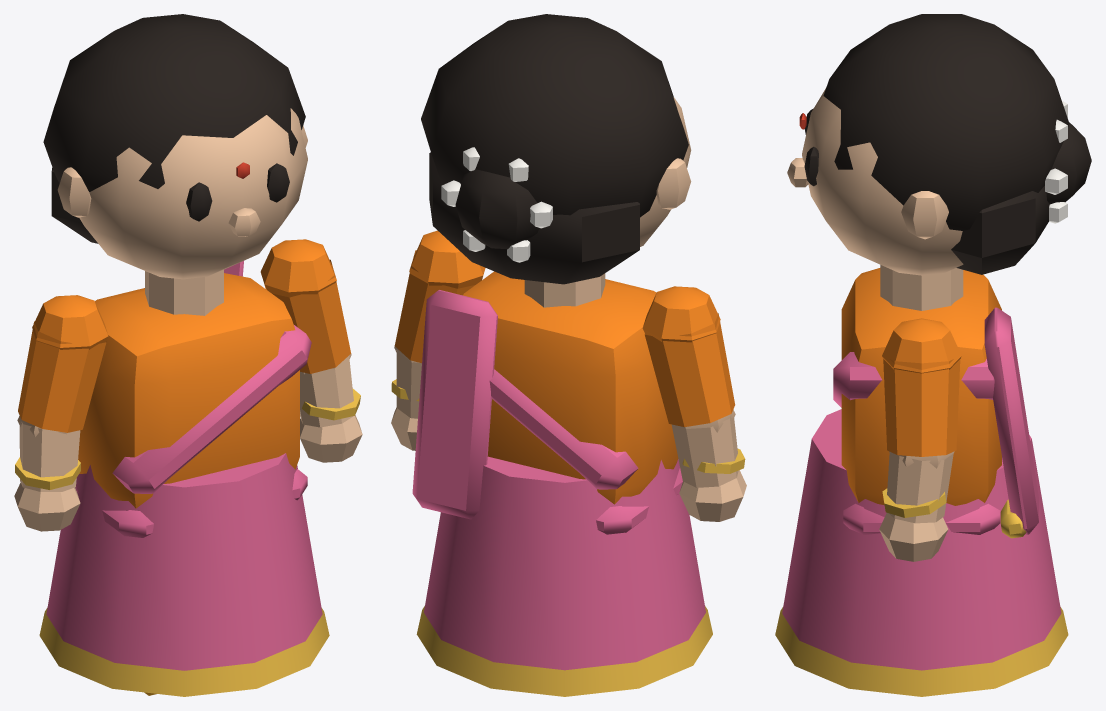
Rendered from trav_family_f.glb.
The picture shows the model from 3 angles, left to right: view 1: azimuth 30°, elevation 25°; view 2: azimuth 150°, elevation 25°; view 3: azimuth 270°, elevation 25°; orthographic projection. The views are drawn at different scales.
Visible parts, largest first — view 1: body, head, arm_r, arm_l; view 2: body, head, arm_r, arm_l; view 3: body, head, arm_l.
Boxes of the visible parts, bbox=[...] form: body: bbox=[39, 261, 329, 696]; head: bbox=[43, 14, 307, 279]; arm_r: bbox=[14, 295, 108, 531]; arm_l: bbox=[260, 239, 362, 462]; body: bbox=[412, 271, 712, 696]; head: bbox=[421, 14, 691, 284]; arm_r: bbox=[642, 286, 746, 521]; arm_l: bbox=[391, 230, 485, 450]; body: bbox=[775, 265, 1068, 696]; head: bbox=[787, 14, 1091, 275]; arm_l: bbox=[879, 318, 961, 561].
Size of the model in its own units: 0.5741 by 0.9984 by 0.456.
1 material, 1 textured.
